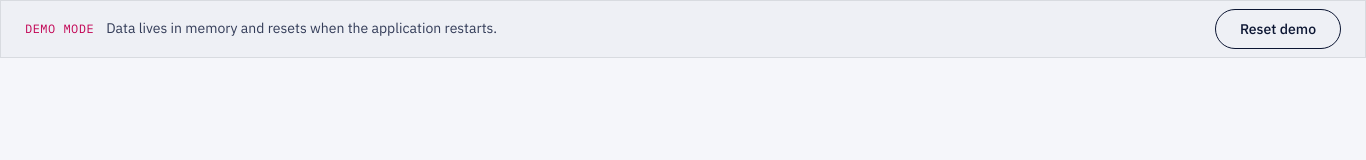
Test: DemoModeNotice › cancels the reset and returns to the initial state
The width and height of the screenshot is (1366, 160).
What coordinates should you click on to do the following:
click the button "Reset demo"
I would click on:
 (1278, 29)
Its box is 1215,9 -> 1341,49.
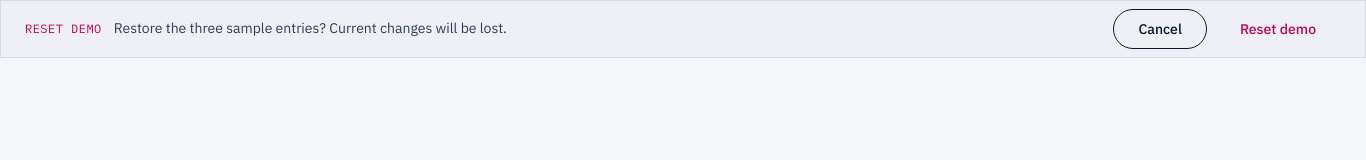
What coordinates should you click on to do the following:
click the button "Cancel"
I would click on:
 (1160, 29)
Its box is 1113,9 -> 1207,49.
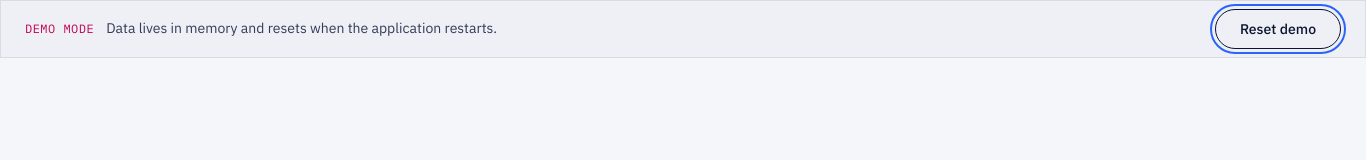
expect the text "Data lives in memory and resets when the application restarts." is shown: met, box 106,19 -> 497,37
